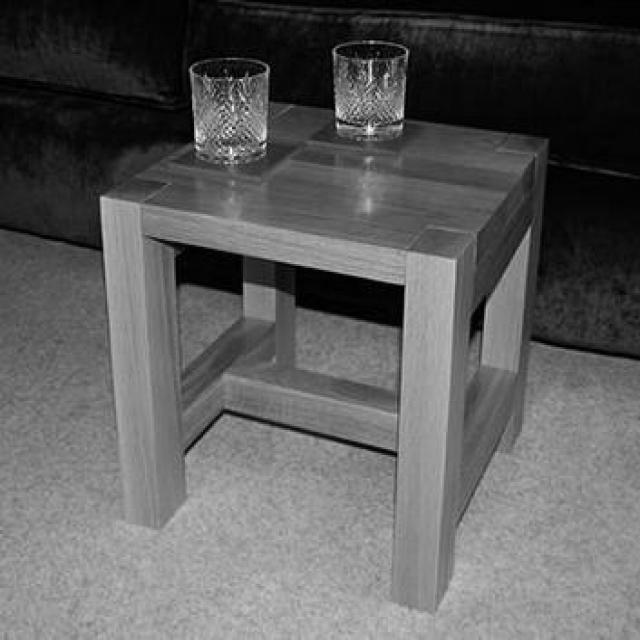table: (101, 94, 553, 605)
